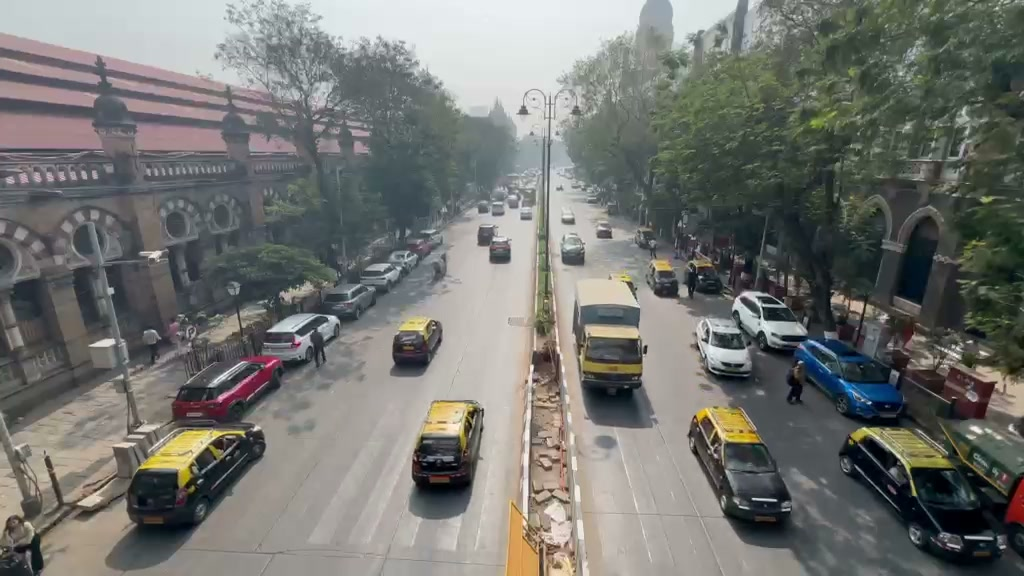bus: (573, 277, 645, 395)
car: (836, 424, 1004, 564), (125, 424, 266, 529), (687, 405, 794, 525), (788, 336, 908, 423), (170, 354, 284, 424), (410, 398, 486, 489), (730, 291, 810, 352), (259, 311, 341, 368), (692, 316, 753, 378), (391, 317, 444, 365), (319, 281, 377, 321), (358, 261, 403, 294), (560, 232, 587, 266), (691, 270, 724, 295), (387, 249, 418, 271), (489, 238, 512, 263), (477, 221, 496, 246), (595, 222, 613, 239), (519, 206, 534, 220)
pedestrian: (786, 358, 806, 405)
